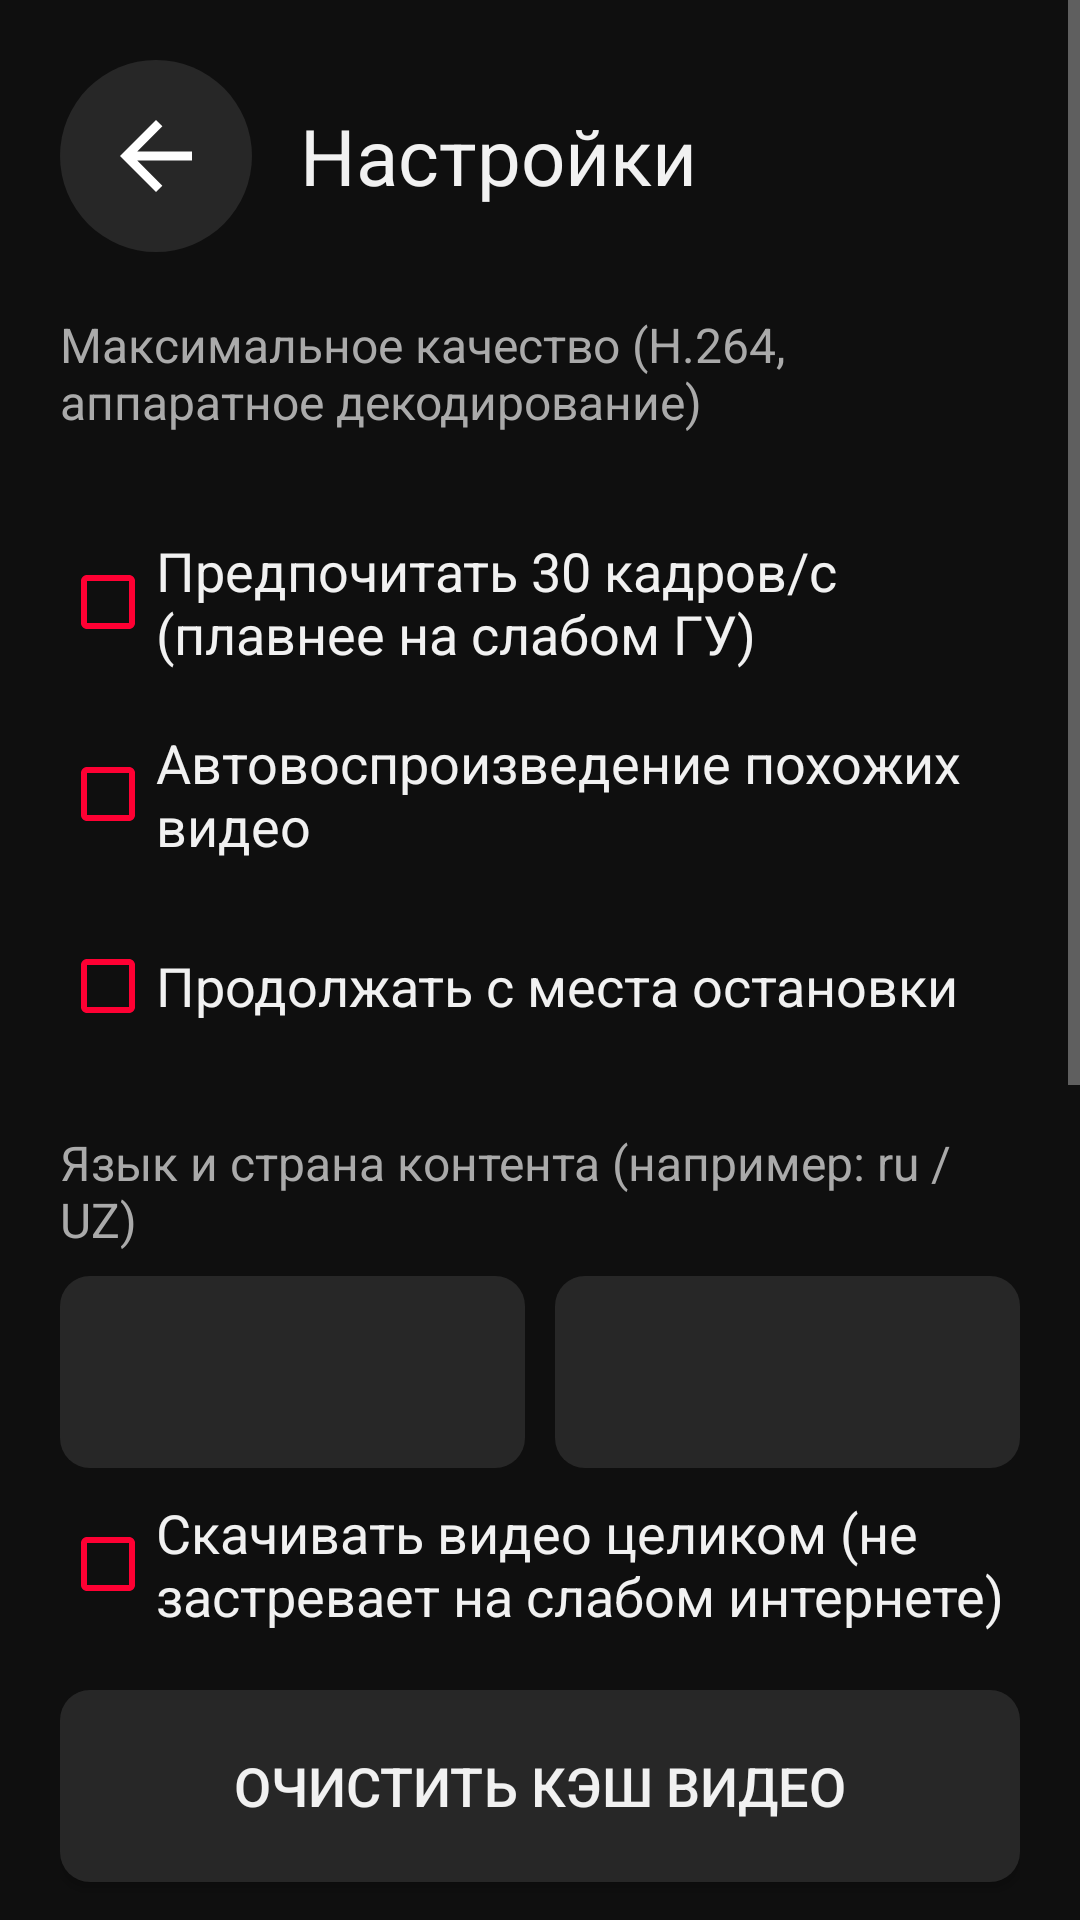

Where icons sit on this 1080px×1920px app screen, as {"x1": x1, "y1": y1, "x2": x2, "y2": y2}:
Назад: {"x1": 60, "y1": 60, "x2": 252, "y2": 252}
